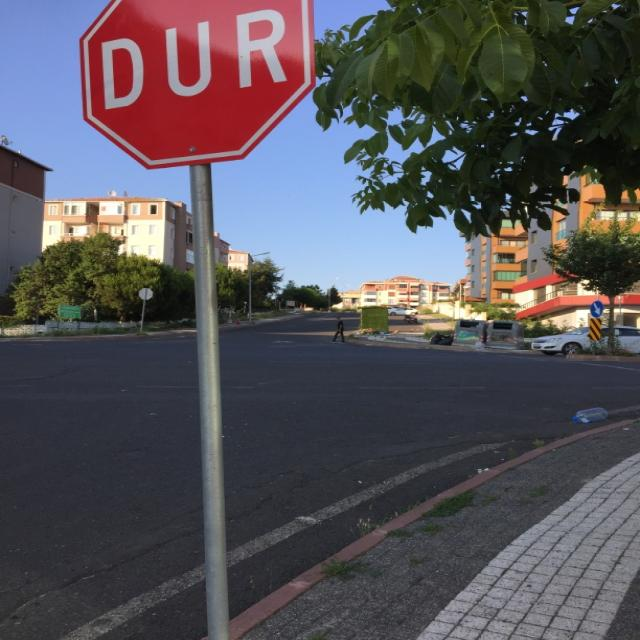dur: (79, 1, 316, 165)
